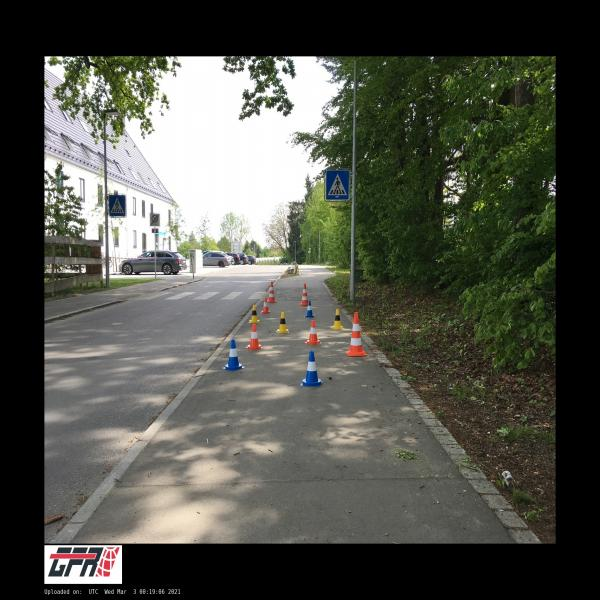blue_cone: (300, 350, 323, 387), (222, 339, 246, 371), (304, 300, 315, 318)
large_orange_cone: (346, 312, 367, 356), (299, 284, 308, 306), (268, 282, 276, 302)
orange_cone: (245, 324, 263, 350), (304, 320, 321, 345), (260, 298, 270, 314)
yellow_cone: (330, 309, 345, 329), (276, 312, 289, 333), (248, 304, 260, 324)
